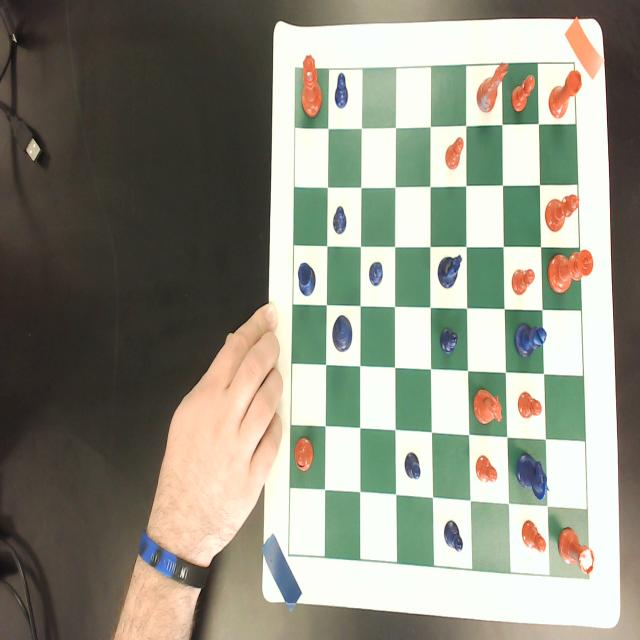B: (514, 322, 547, 361)
K: (332, 314, 352, 354)
N: (515, 453, 550, 503), (437, 254, 463, 289)
P: (444, 518, 464, 553), (440, 327, 459, 356), (404, 450, 421, 480), (335, 73, 349, 109), (332, 205, 347, 235), (368, 260, 383, 287)
R: (298, 262, 316, 296)
b: (545, 192, 580, 234), (294, 436, 313, 472)
k: (547, 249, 593, 296)
n: (476, 61, 509, 116), (473, 388, 502, 428)
p: (521, 518, 547, 557), (511, 73, 536, 113), (518, 390, 542, 423), (475, 454, 499, 486), (511, 266, 536, 296), (445, 136, 464, 170)
q: (302, 54, 322, 119)
r: (556, 526, 596, 576), (547, 68, 583, 118)
